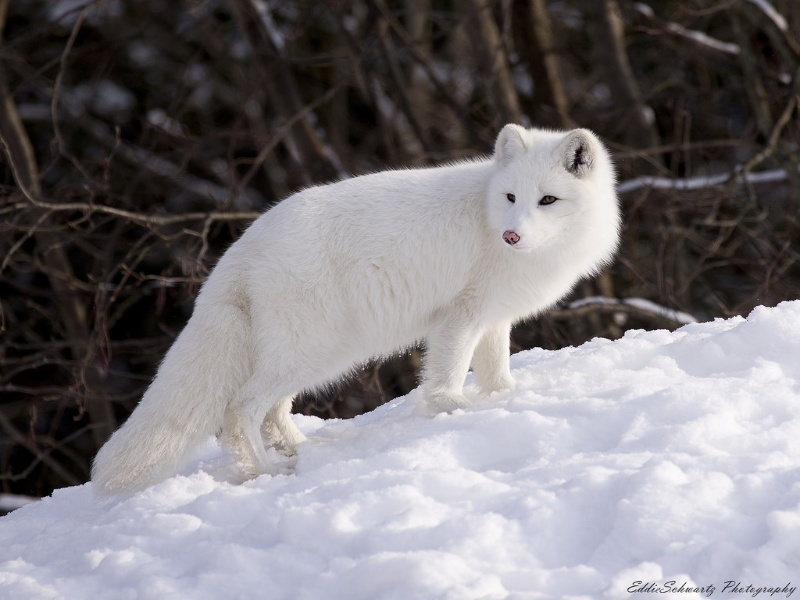fox: (93, 125, 630, 498)
